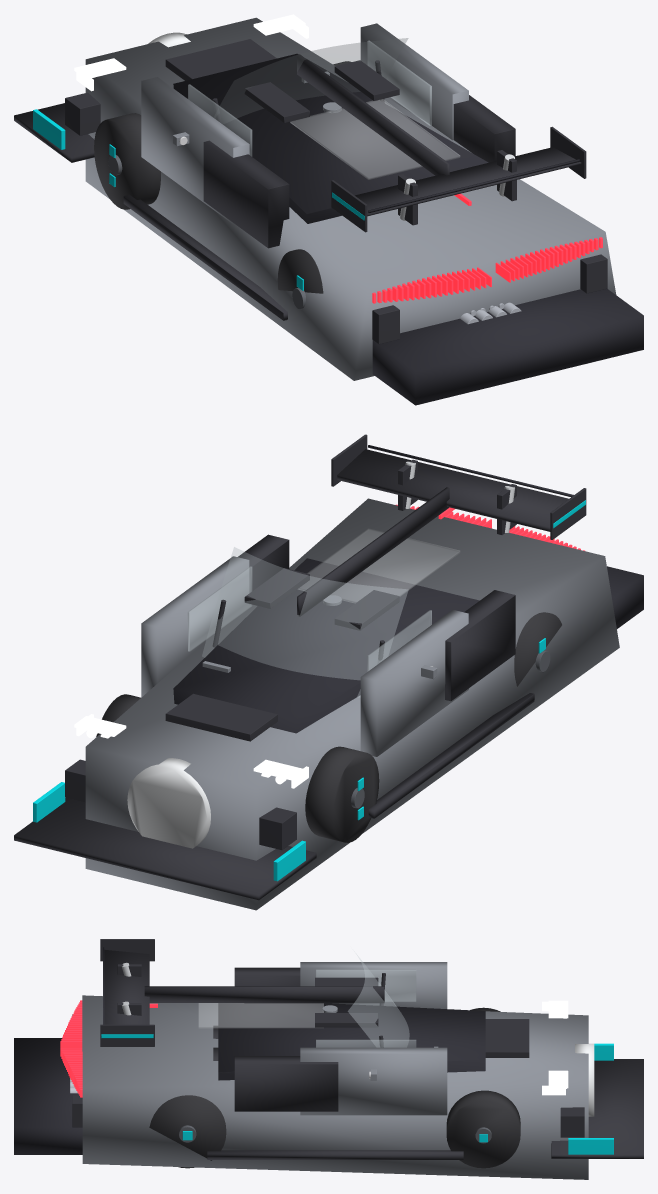
The model's file is complete-divo.glb.
The picture shows the model from 3 angles, top to bottom: view 1: azimuth 30°, elevation 25°; view 2: azimuth 150°, elevation 25°; view 3: azimuth 270°, elevation 25°; orthographic projection. The views are drawn at different scales.
Parts seen in each view (by area): view 1: BODY_Divo_Hypercar_Shell, CHASSIS_Carbon_Monocoque_Tub, AERO_Rear_Venturi_Diffuser_Assembly, BODY_Butterfly_Door_Panel_R, BODY_Side_Intercooler_Air_Scoop_R, GLASS_W16_Engine_Cover_Showcase, BODY_Butterfly_Door_Panel_L, GLASS_Hypercar_Windshield, WHEEL_Tire_Front_FR, AERO_Active_Rear_Wing_MainPlane, AERO_Bugatti_Atlantic_Center_Dorsal_Fin, BODY_Side_Intercooler_Air_Scoop_L (+17 smaller); view 2: BODY_Divo_Hypercar_Shell, CHASSIS_Carbon_Monocoque_Tub, GLASS_Hypercar_Windshield, AERO_Front_Carbon_Splitter_Tray, BODY_Butterfly_Door_Panel_R, AERO_Active_Rear_Wing_MainPlane, BODY_Butterfly_Door_Panel_L, BODY_Bugatti_Horseshoe_Grille_Bezel, WHEEL_Tire_Front_FR, BODY_Side_Intercooler_Air_Scoop_R, GLASS_W16_Engine_Cover_Showcase, AERO_Bugatti_Atlantic_Center_Dorsal_Fin (+16 smaller); view 3: BODY_Divo_Hypercar_Shell, CHASSIS_Carbon_Monocoque_Tub, BODY_Butterfly_Door_Panel_L, AERO_Rear_Venturi_Diffuser_Assembly, BODY_Side_Intercooler_Air_Scoop_L, AERO_Front_Carbon_Splitter_Tray, BODY_Butterfly_Door_Panel_R, WHEEL_Tire_Front_FL, AERO_Bugatti_Atlantic_Center_Dorsal_Fin, WHEEL_Tire_Rear_RL, GLASS_W16_Engine_Cover_Showcase, AERO_Active_Rear_Wing_MainPlane (+17 smaller).
Boxes of the visible parts, bbox=[...] form: BODY_Divo_Hypercar_Shell: bbox=[85, 17, 616, 380]; CHASSIS_Carbon_Monocoque_Tub: bbox=[173, 53, 488, 223]; AERO_Rear_Venturi_Diffuser_Assembly: bbox=[372, 288, 643, 405]; BODY_Butterfly_Door_Panel_R: bbox=[141, 77, 249, 224]; BODY_Side_Intercooler_Air_Scoop_R: bbox=[203, 140, 289, 248]; GLASS_W16_Engine_Cover_Showcase: bbox=[290, 99, 459, 179]; BODY_Butterfly_Door_Panel_L: bbox=[360, 23, 468, 140]; GLASS_Hypercar_Windshield: bbox=[220, 38, 408, 118]; WHEEL_Tire_Front_FR: bbox=[94, 113, 160, 209]; AERO_Active_Rear_Wing_MainPlane: bbox=[355, 147, 581, 216]; AERO_Bugatti_Atlantic_Center_Dorsal_Fin: bbox=[297, 54, 449, 175]; BODY_Side_Intercooler_Air_Scoop_L: bbox=[453, 95, 515, 162]; BODY_Divo_Hypercar_Shell: bbox=[85, 498, 619, 910]; CHASSIS_Carbon_Monocoque_Tub: bbox=[173, 558, 479, 733]; GLASS_Hypercar_Windshield: bbox=[202, 547, 408, 697]; AERO_Front_Carbon_Splitter_Tray: bbox=[14, 797, 316, 900]; BODY_Butterfly_Door_Panel_R: bbox=[360, 609, 468, 756]; AERO_Active_Rear_Wing_MainPlane: bbox=[337, 449, 568, 531]; BODY_Butterfly_Door_Panel_L: bbox=[141, 556, 249, 697]; BODY_Bugatti_Horseshoe_Grille_Bezel: bbox=[127, 758, 210, 848]; WHEEL_Tire_Front_FR: bbox=[305, 746, 379, 842]; BODY_Side_Intercooler_Air_Scoop_R: bbox=[445, 590, 515, 701]; GLASS_W16_Engine_Cover_Showcase: bbox=[298, 528, 459, 602]; AERO_Bugatti_Atlantic_Center_Dorsal_Fin: bbox=[297, 487, 449, 616]; BODY_Divo_Hypercar_Shell: bbox=[82, 995, 588, 1179]; CHASSIS_Carbon_Monocoque_Tub: bbox=[218, 1003, 485, 1080]; BODY_Butterfly_Door_Panel_L: bbox=[300, 1047, 447, 1115]; AERO_Rear_Venturi_Diffuser_Assembly: bbox=[14, 1038, 82, 1154]; BODY_Side_Intercooler_Air_Scoop_L: bbox=[234, 1056, 338, 1111]; AERO_Front_Carbon_Splitter_Tray: bbox=[551, 1059, 643, 1158]; BODY_Butterfly_Door_Panel_R: bbox=[300, 962, 447, 1008]; WHEEL_Tire_Front_FL: bbox=[446, 1090, 520, 1168]; AERO_Bugatti_Atlantic_Center_Dorsal_Fin: bbox=[144, 986, 384, 1003]; WHEEL_Tire_Rear_RL: bbox=[149, 1095, 226, 1168]; GLASS_W16_Engine_Cover_Showcase: bbox=[199, 1003, 323, 1027]; AERO_Active_Rear_Wing_MainPlane: bbox=[104, 949, 149, 1024].
Size of the model in its own units: 2.25 by 1.71 by 5.77.
